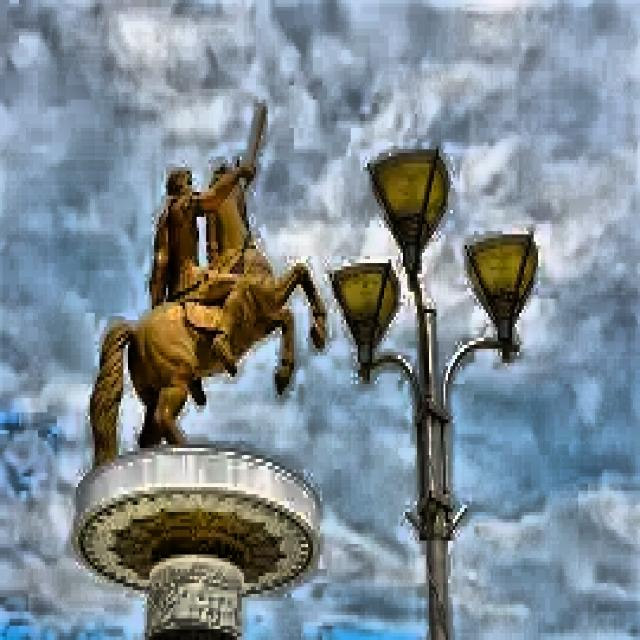alexander the great monument: (69, 97, 324, 640)
